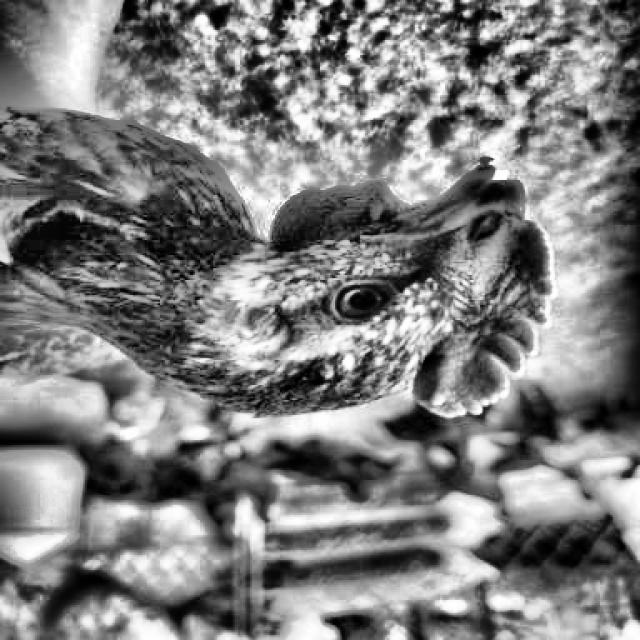Healthy: (314, 273, 414, 345)
